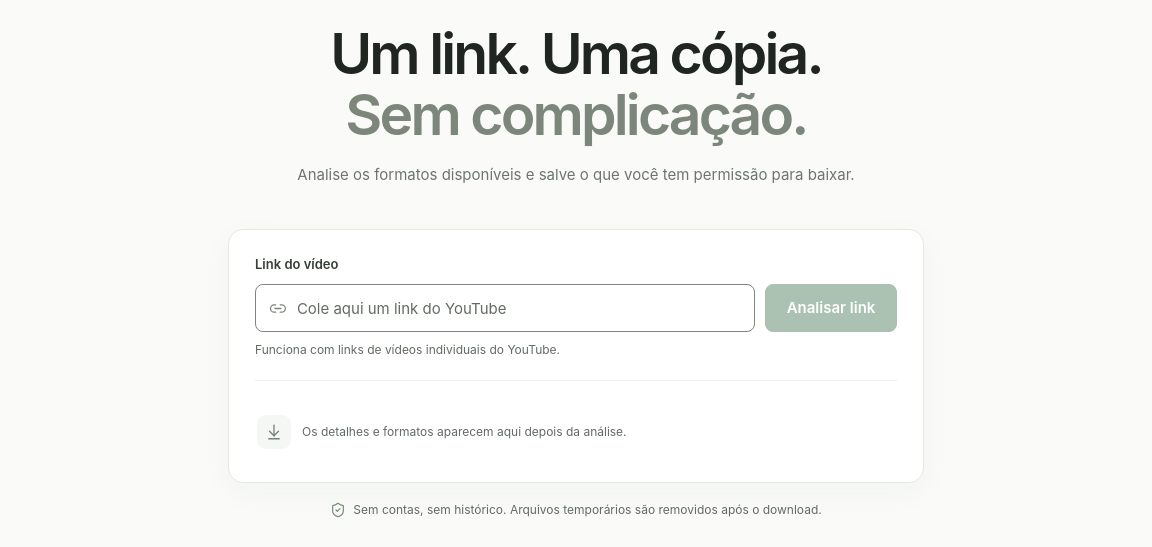
Test case: Sapo Downloader › permite cancelar o processamento e encerra o estado ativo
Type "https://youtu.be/abcdefghijk" into the field labelled "Link do vídeo" at (519, 308), box 297,285 -> 741,331
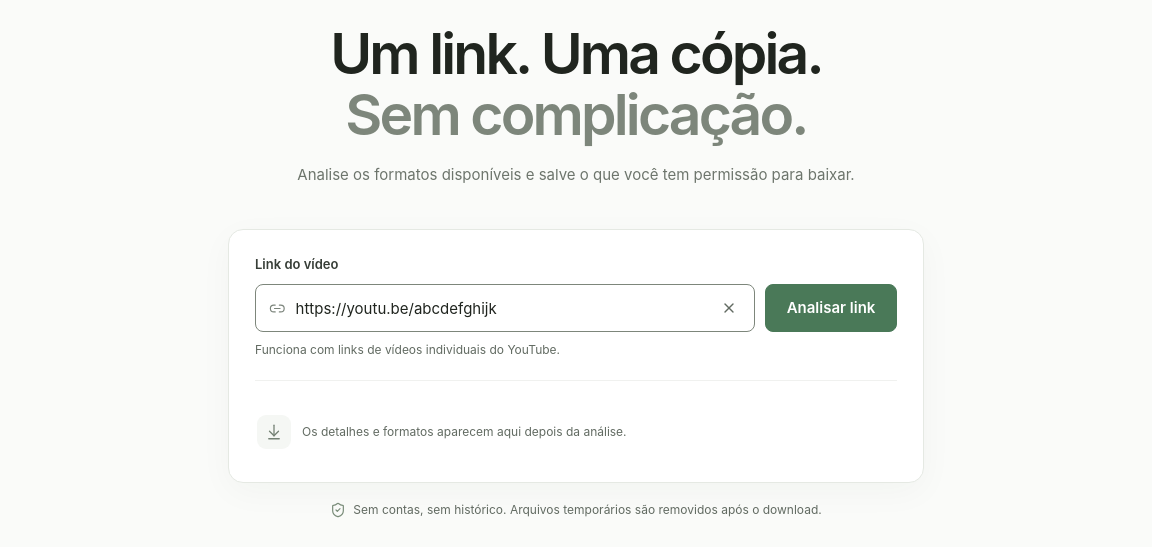
Click the button "Analisar link" at (831, 308), box 765,284 -> 897,332
(page scrolled)
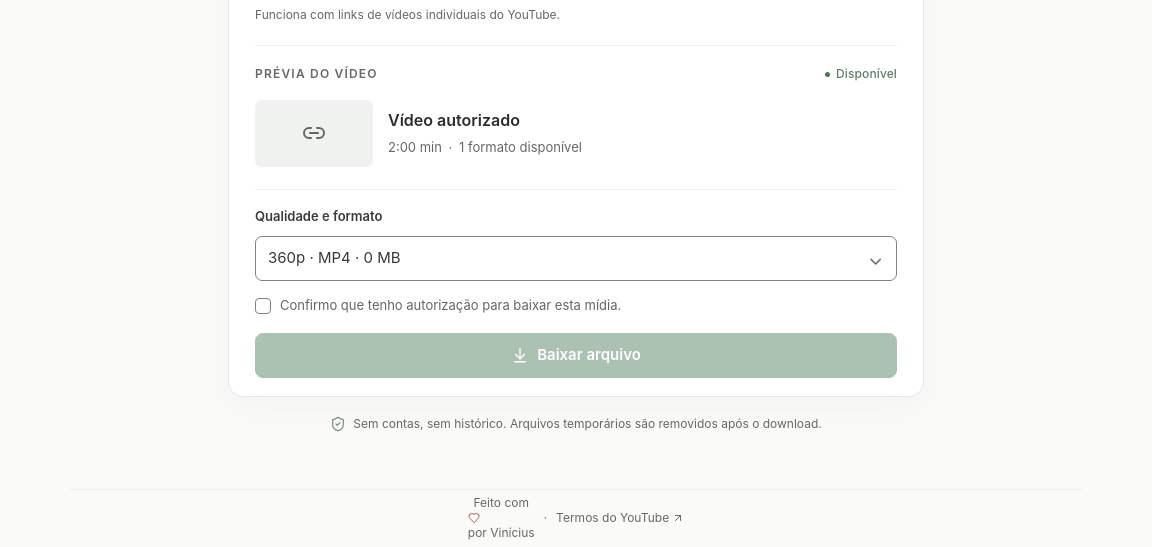
Expected: the heading "Vídeo autorizado" is shown, 388,110 -> 520,130
Click the checkbox labelled "Confirmo que tenho autorização para baixar esta mídia." at (438, 305), box 255,297 -> 621,314
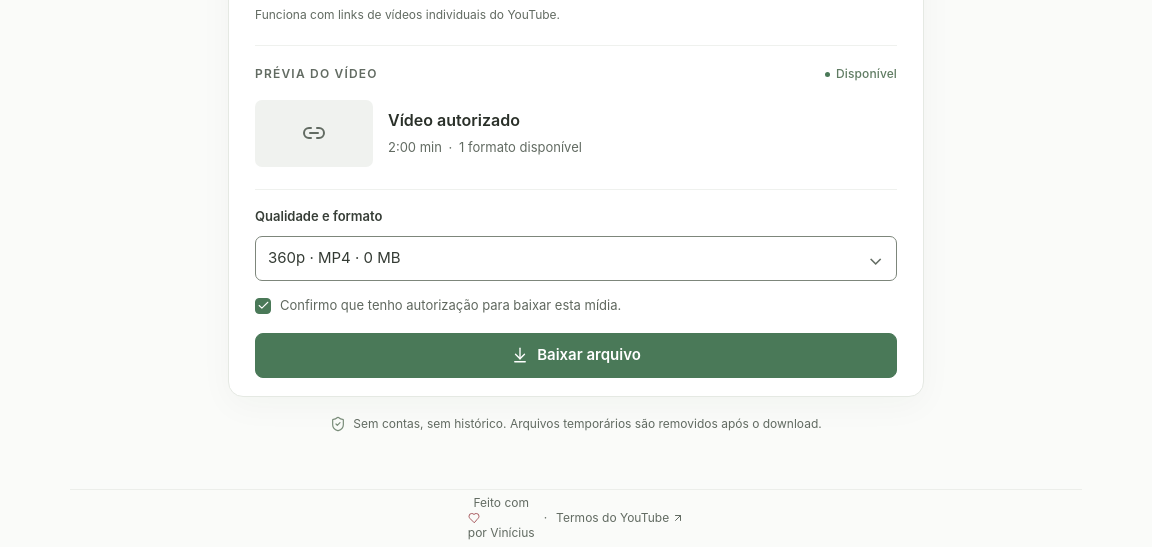
Click the button "Baixar arquivo" at (576, 355), box 255,332 -> 897,378
(page scrolled)
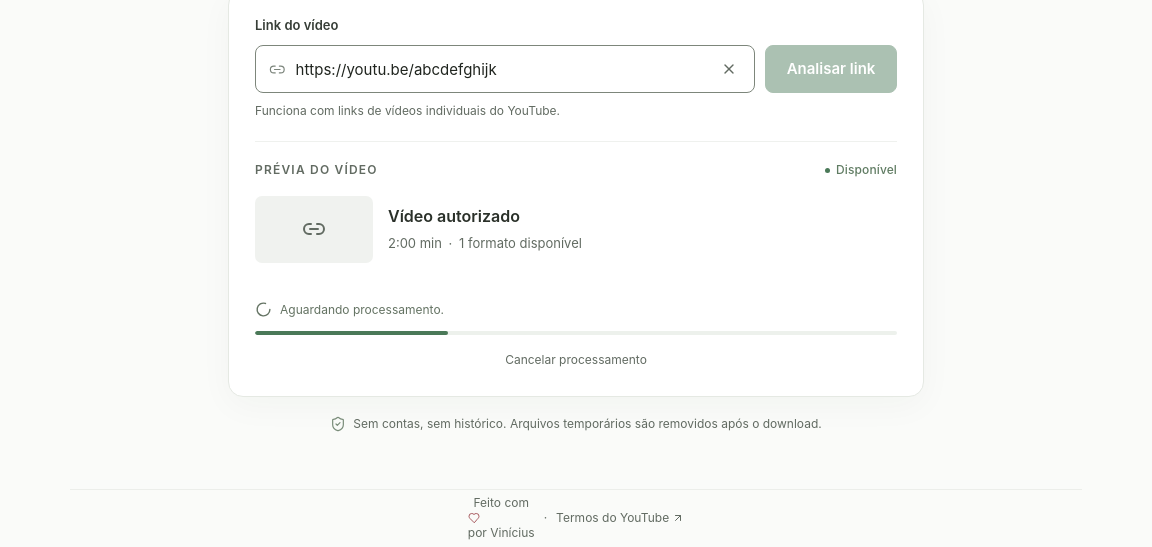
Click the button "Cancelar processamento" at (576, 360), box 499,342 -> 653,376
(page scrolled)
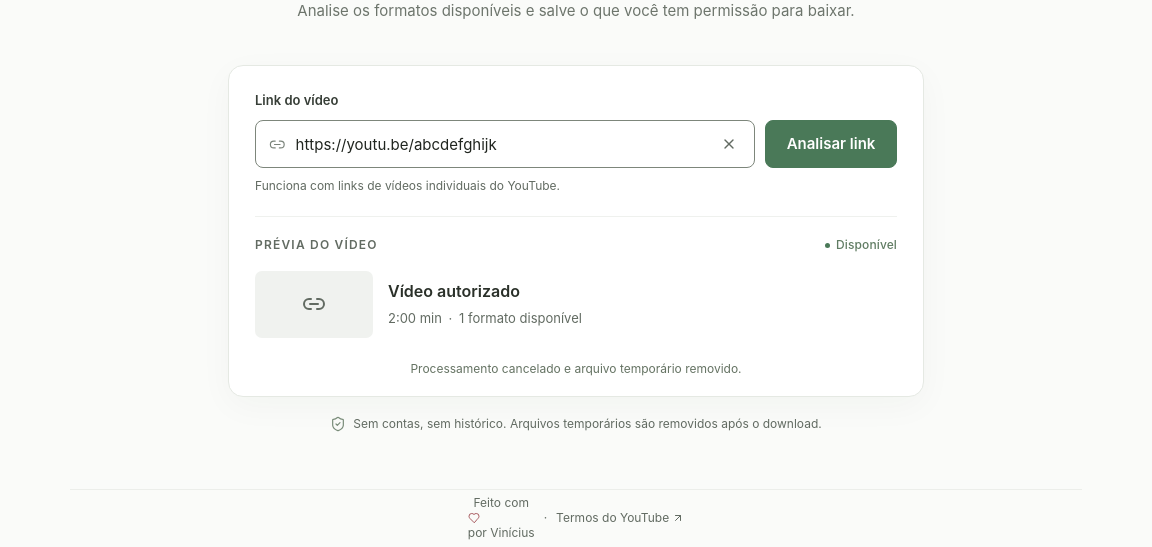
Expected: the text "Processamento cancelado e arquivo temporário removido." is shown, 410,360 -> 742,376
